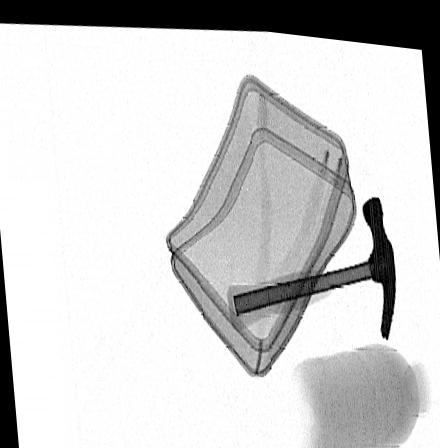Hammer: (226, 186, 396, 332)
